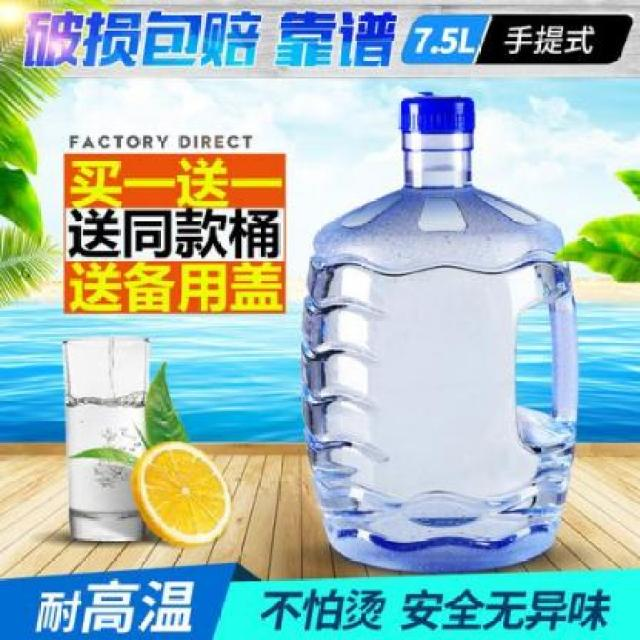coolerbottle: (297, 89, 588, 576)
